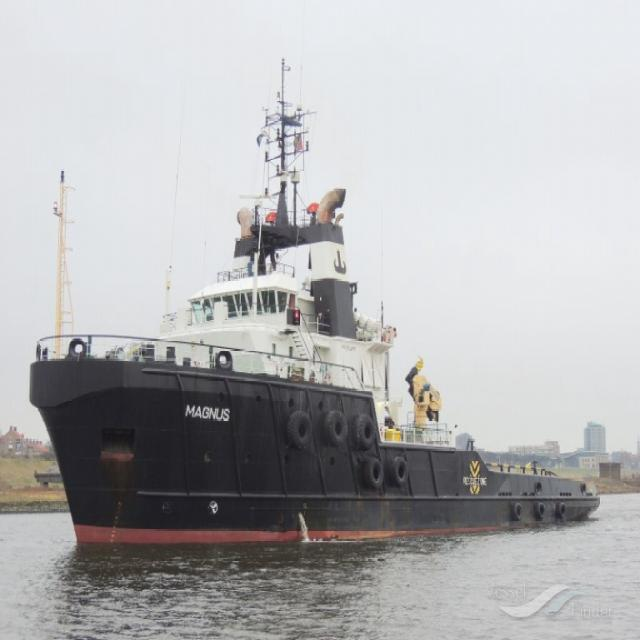OCR: (177, 388, 234, 430)
